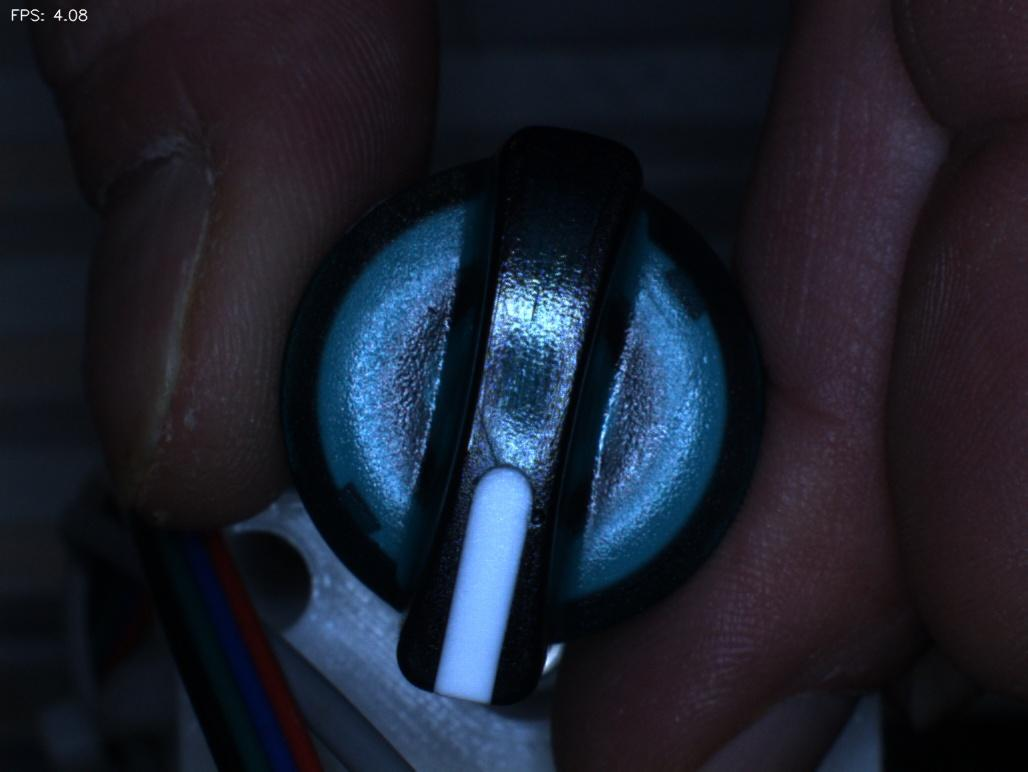Choc: (495, 488, 590, 565)
